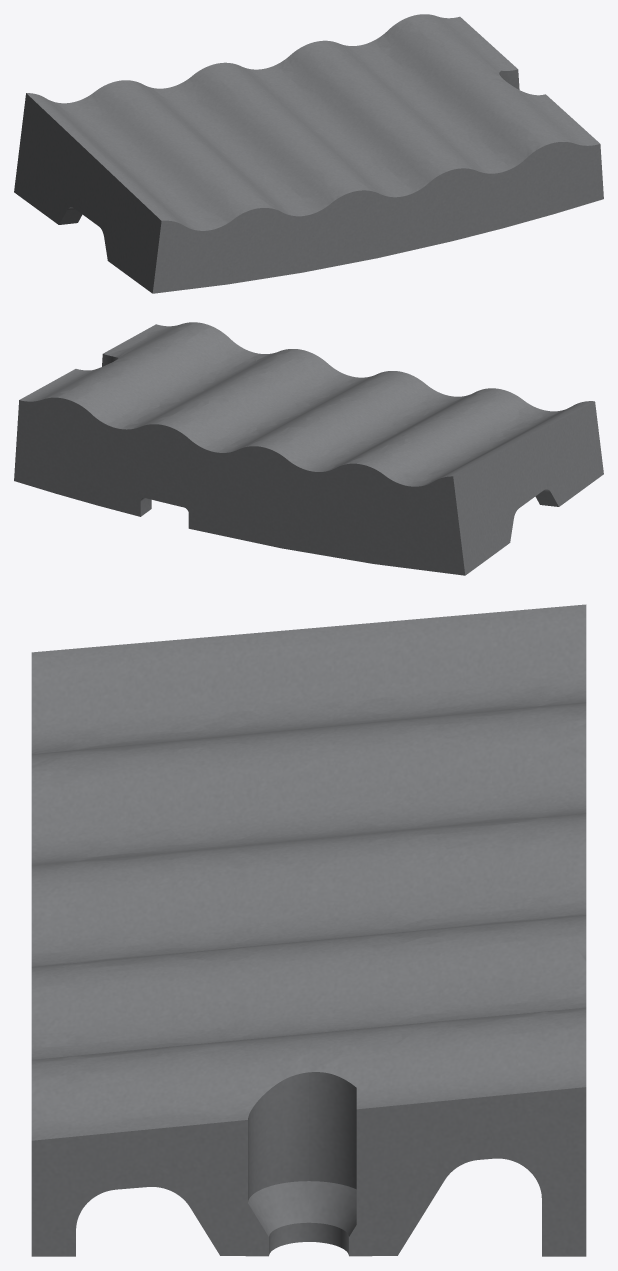
The model's file is cement-metal-tube-mill-liner.glb.
3 renders of one model, top to bottom at view 1: azimuth 30°, elevation 25°; view 2: azimuth 150°, elevation 25°; view 3: azimuth 270°, elevation 25°, orthographic. The views are drawn at different scales.
Visible parts, largest first — view 1: metal; view 2: metal; view 3: metal.
Boxes of the visible parts, bbox=[...] form: metal: bbox=[14, 14, 603, 293]; metal: bbox=[14, 322, 603, 575]; metal: bbox=[31, 604, 586, 1256].
Size of the model in its own units: 0.4698 by 0.1163 by 0.25.
Materials: 1 (1 with a texture image).
